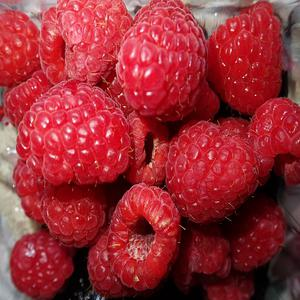raspb: (6, 1, 290, 281)
